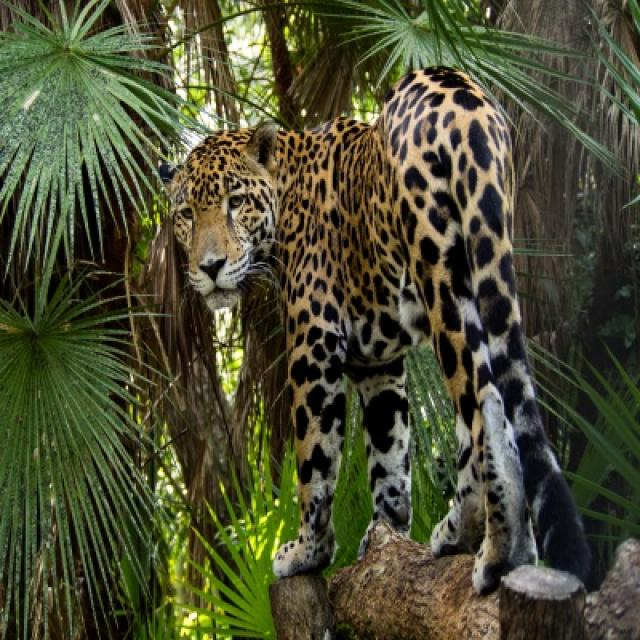Jaguar: (166, 67, 595, 600)
